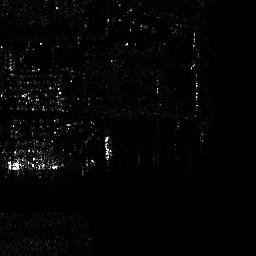ship: (1, 157, 66, 171), (103, 136, 115, 160)
